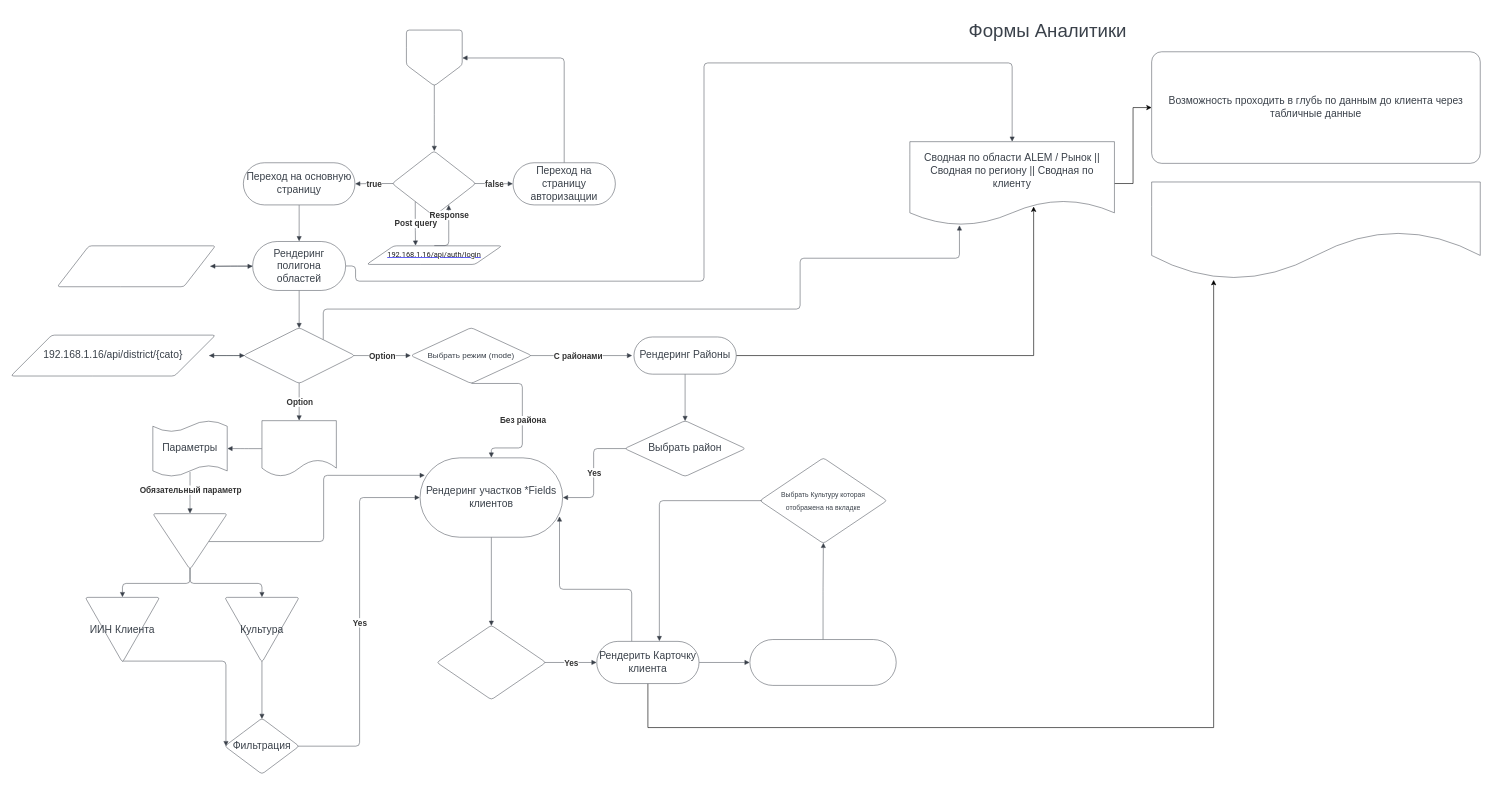
Some shapes in this 1491 by 785 pixel diagram are drawn without their labels. The shapes that lost their labels are listed below. From the top down, each one's centre as x and y in pixels, then its label:
At [434,58]: "Maps AlemAgro".
At [434,183]: "Авторизация".
At [1315,230]: "Измерить потенциал клиента по закупу.".
At [136,266]: "192.168.1.16/api/country".
At [299,355]: "Выбрать область".
At [298,448]: "Фильтр полигонов".
At [189,541]: "cato".
At [491,662]: "Выбрать участок *Fields клиента".
At [822,662]: "Рендерить вкладки культур клиента".
